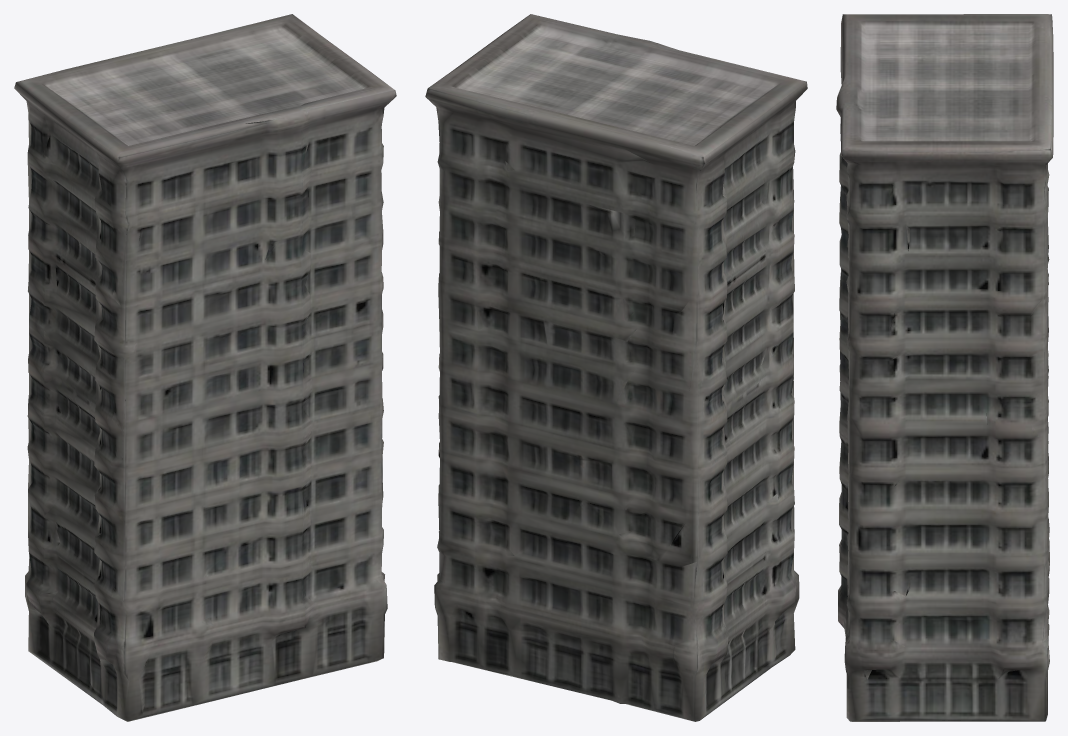
File: reliance_building.glb
3 views of the same model, side by side, from view 1: azimuth 30°, elevation 25°; view 2: azimuth 150°, elevation 25°; view 3: azimuth 270°, elevation 25° (orthographic).
Parts seen in each view (by area): view 1: reliance_building; view 2: reliance_building; view 3: reliance_building.
Part boxes in pixels (bbox=[...]): reliance_building: bbox=[14, 14, 396, 721]; reliance_building: bbox=[425, 14, 807, 721]; reliance_building: bbox=[836, 14, 1053, 721].
Size of the model in its own units: 27 by 53 by 18.
Materials: 1 (1 with a texture image).
